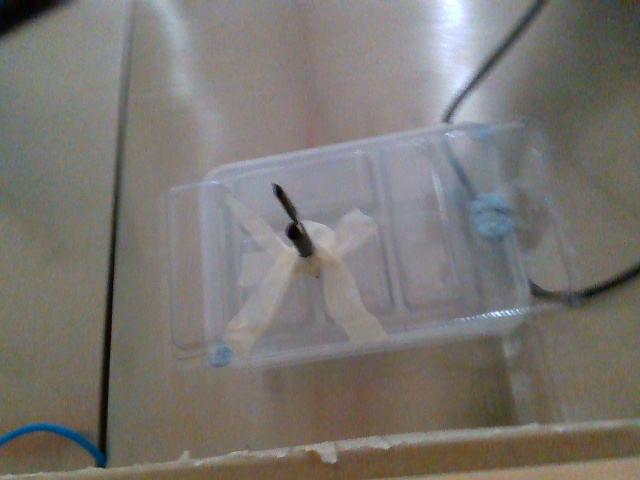test_strip: (268, 182, 303, 232)
